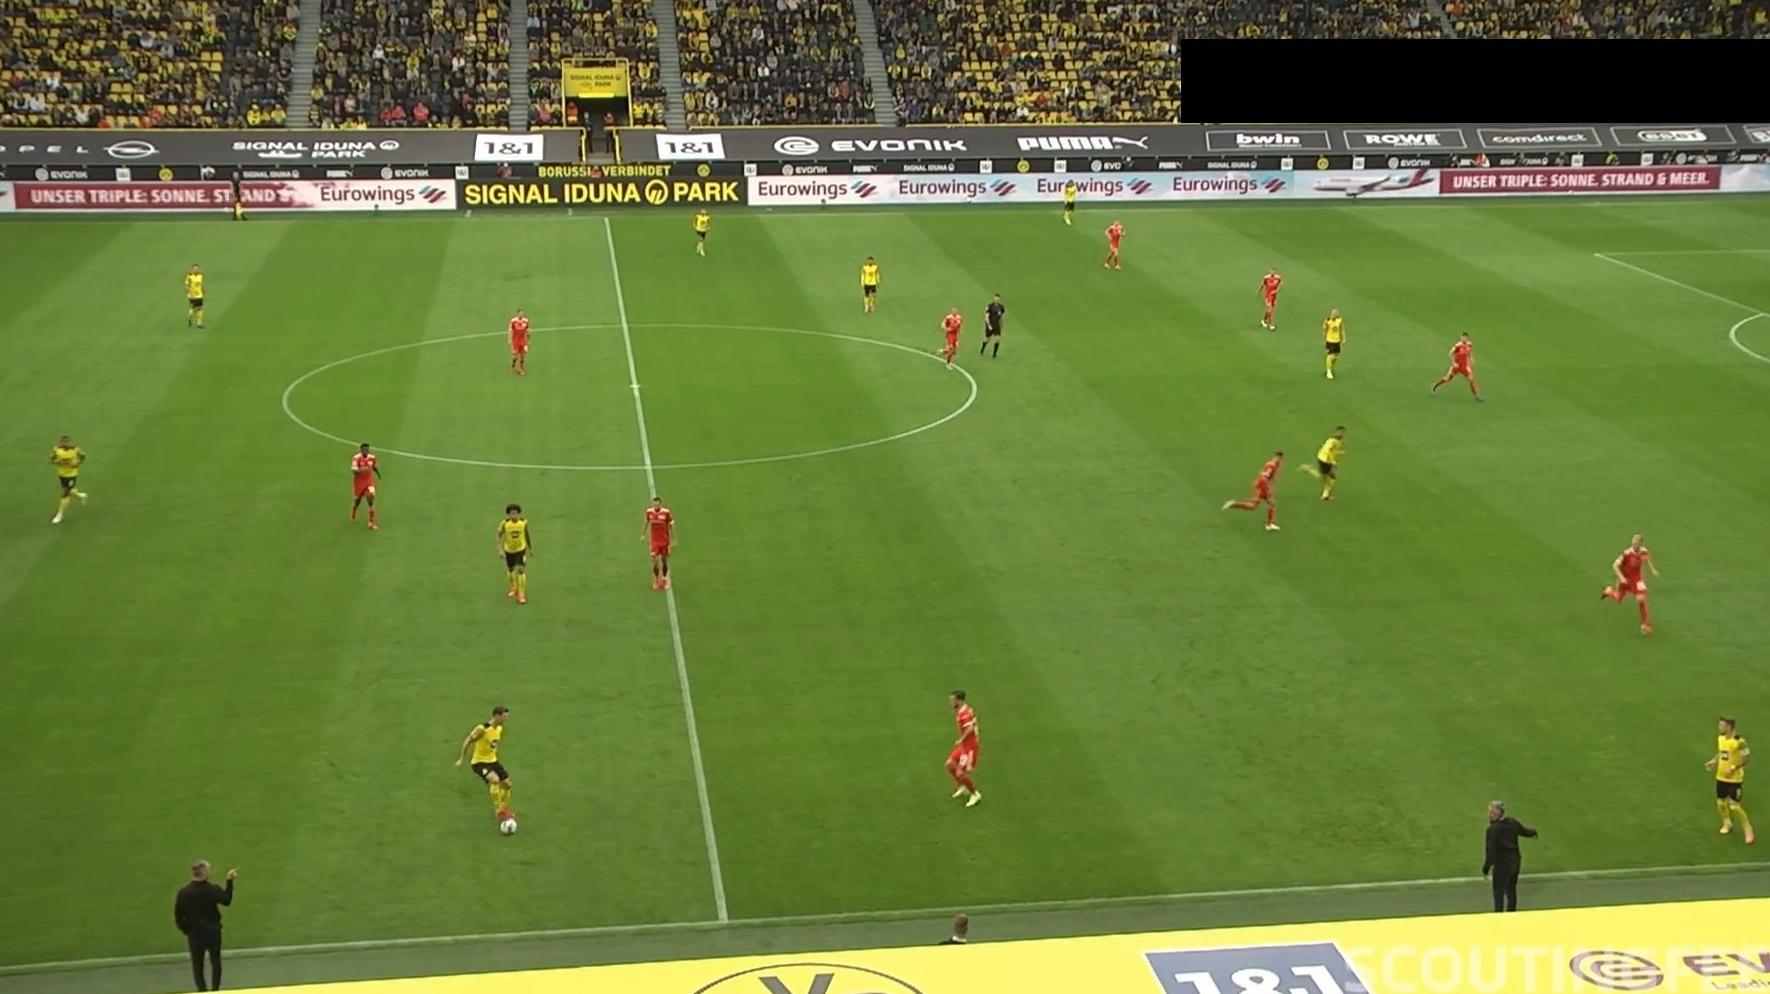ball: (498, 817, 519, 838)
